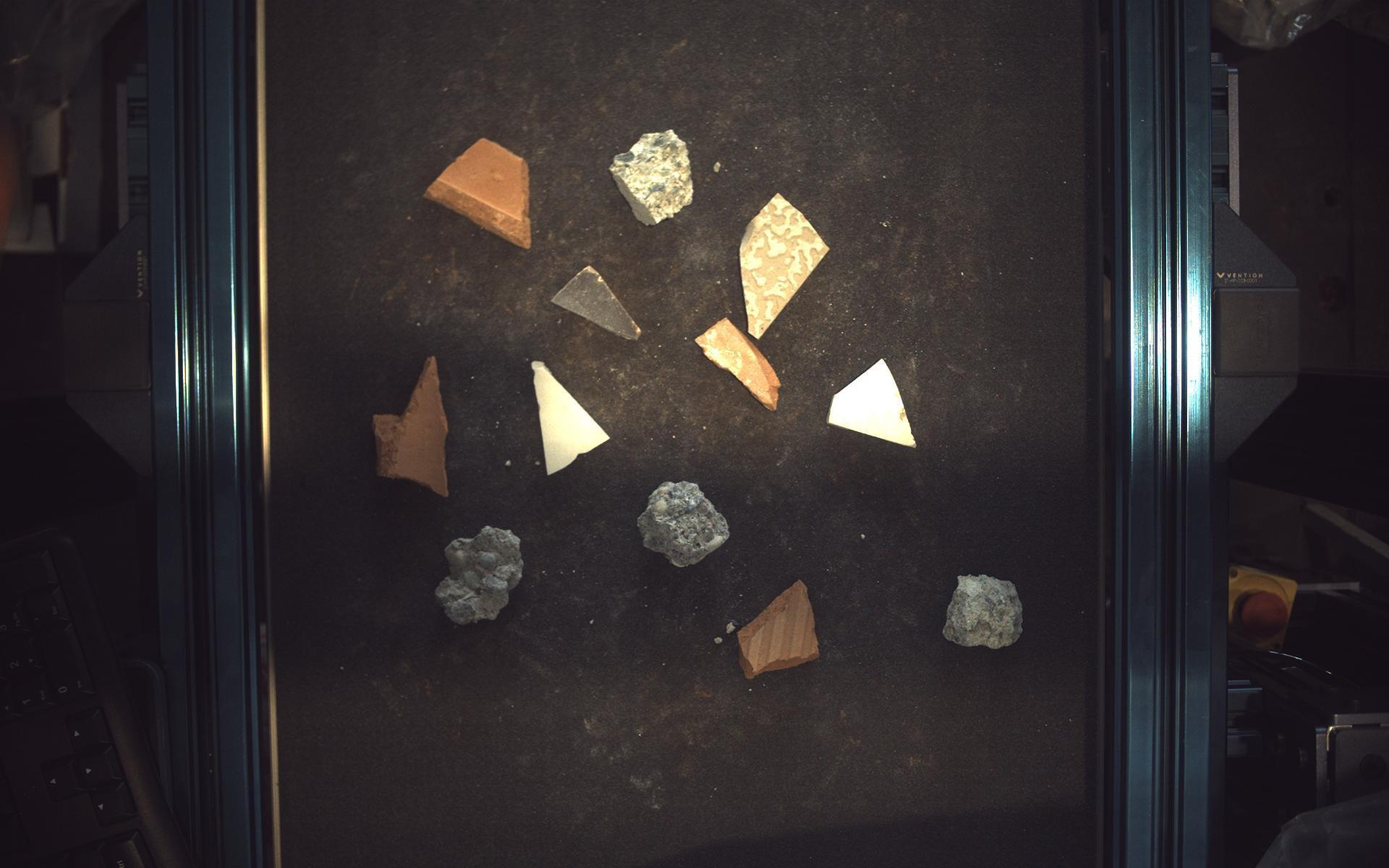brick: (425, 137, 532, 247), (373, 356, 449, 497), (739, 581, 820, 680), (697, 318, 782, 411)
concrete: (436, 527, 522, 626), (611, 128, 694, 225), (638, 482, 730, 568), (945, 575, 1024, 650)
tile: (742, 192, 831, 338), (532, 361, 610, 475), (830, 359, 917, 447), (552, 266, 641, 340)
